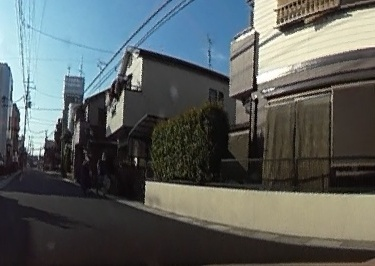person: (78, 148, 92, 198), (97, 149, 111, 198)
